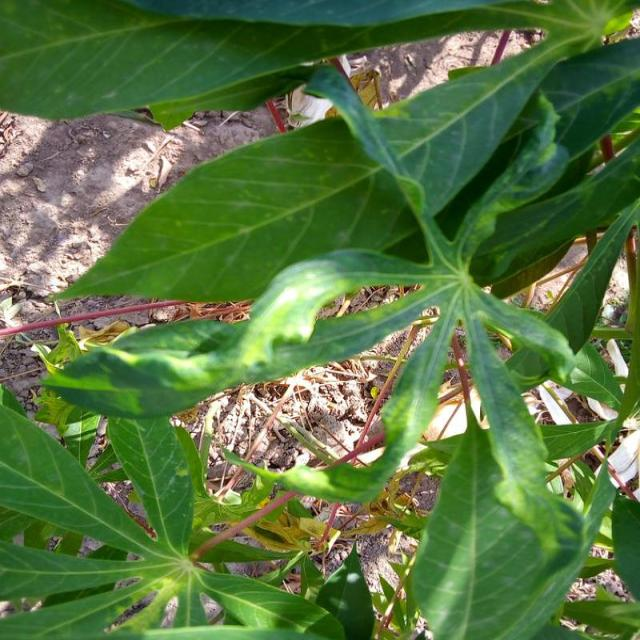cassava leaf: (10, 2, 638, 637), (49, 26, 638, 305)
